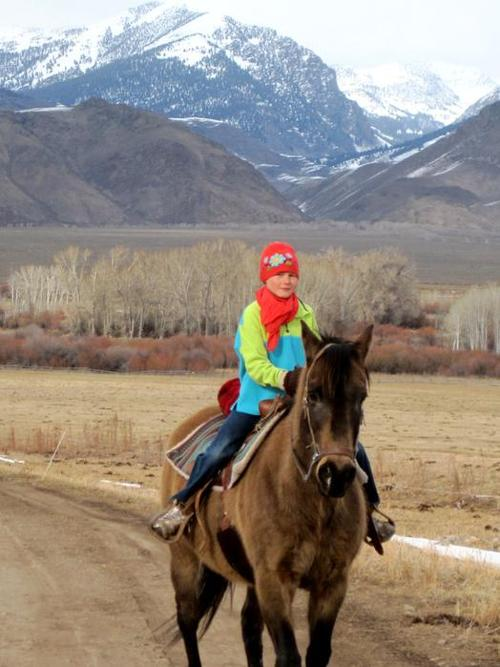person: (151, 241, 396, 553)
